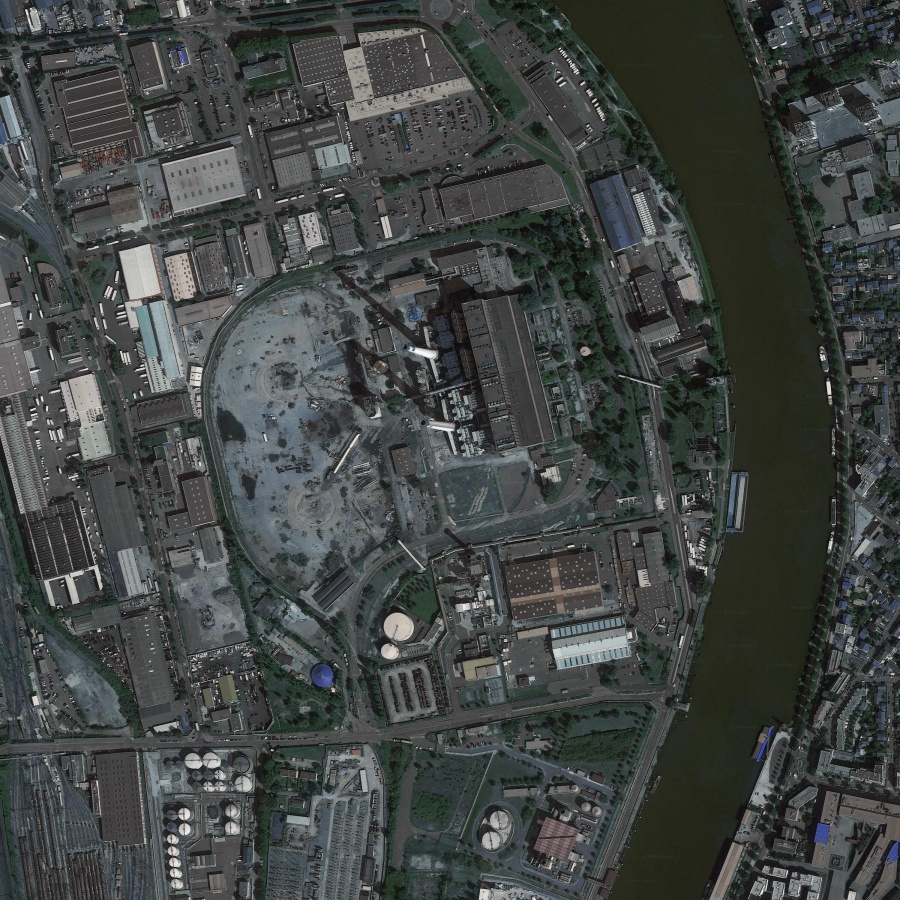PowerPlant: (332, 259, 536, 658)
